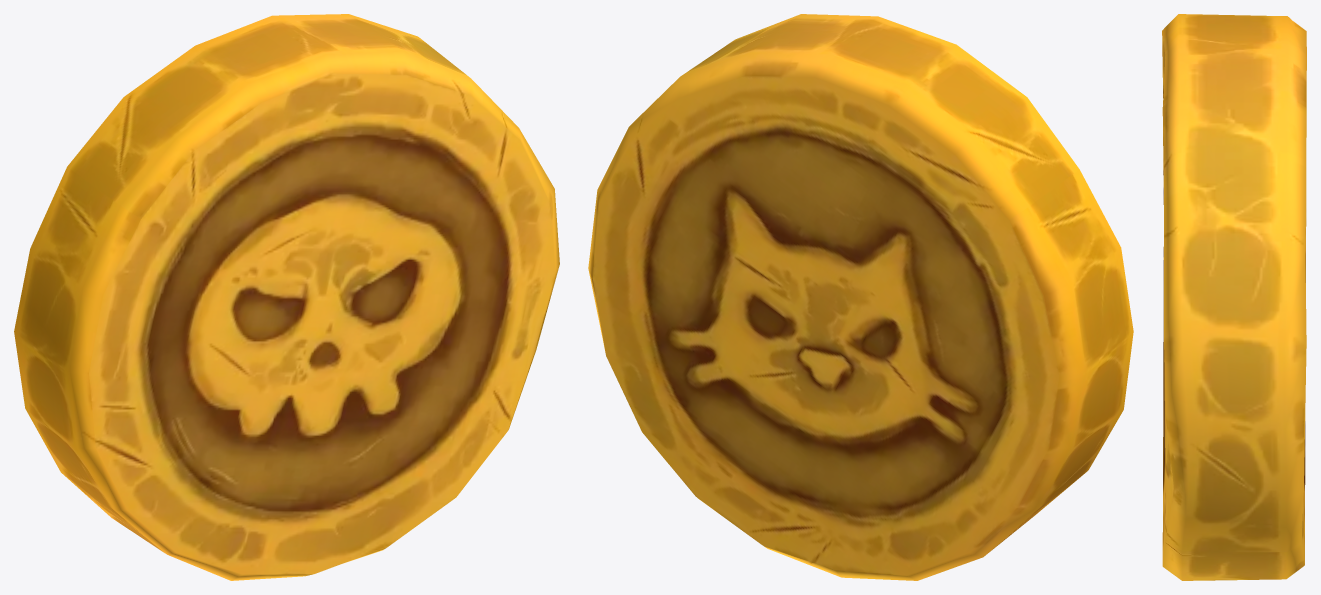
Rendered from coin.glb.
3 views of the same model, side by side, from view 1: azimuth 30°, elevation 25°; view 2: azimuth 150°, elevation 25°; view 3: azimuth 270°, elevation 25° (orthographic).
Parts seen in each view (by area): view 1: Cylinder.015_Gold_0; view 2: Cylinder.015_Gold_0; view 3: Cylinder.015_Gold_0.
Boxes of the visible parts, x1,y1,x2,y2 form: Cylinder.015_Gold_0: (14, 14, 559, 580); Cylinder.015_Gold_0: (588, 14, 1133, 580); Cylinder.015_Gold_0: (1162, 14, 1306, 580).
Size of the model in its own units: 0.321 by 0.3211 by 0.0813.
Materials: 1 (1 with a texture image).
